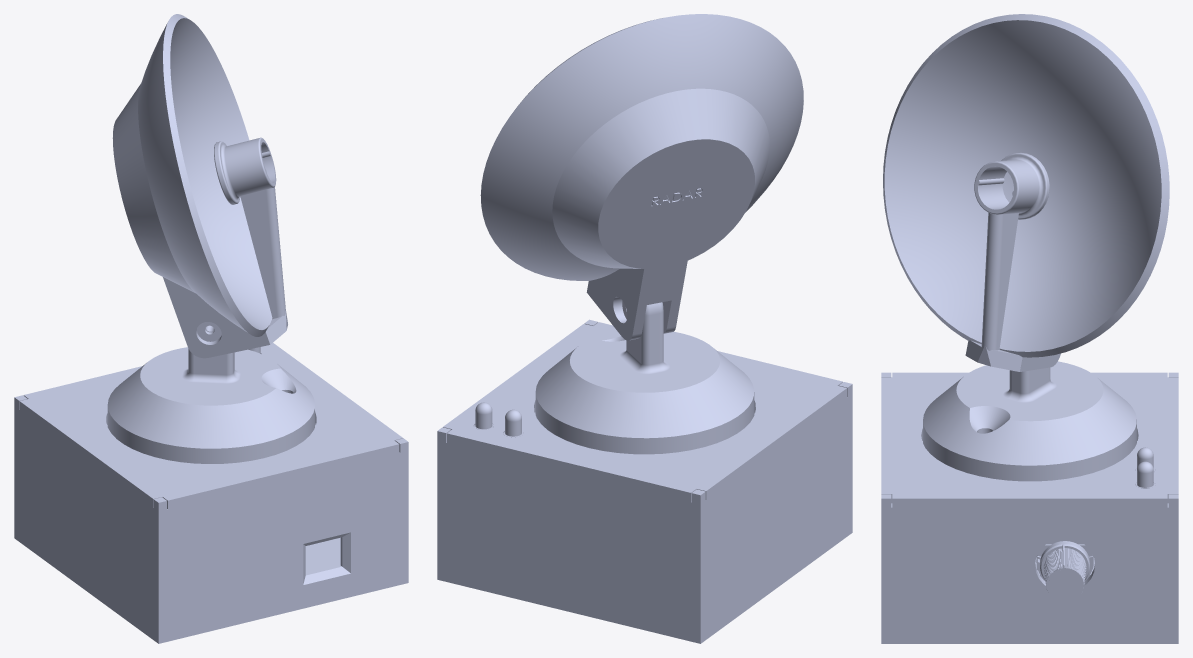
Rendered from Assemblage_Radar.glb.
The picture shows the model from 3 angles, left to right: view 1: azimuth 30°, elevation 25°; view 2: azimuth 150°, elevation 25°; view 3: azimuth 270°, elevation 25°; orthographic projection. The views are drawn at different scales.
Parts seen in each view (by area): view 1: Socle4-1, Parabole_Drone_Detection-1, Socle1-1, Socle2-1; view 2: Parabole_Drone_Detection-1, Socle4-1, Socle2-1, Socle1-1; view 3: Parabole_Drone_Detection-1, Socle4-1, Socle2-1, Socle1-1, bouton potentiom├¿tre-1, LED-2, POTENTIOMETER-1.
Boxes of the visible parts, x1,y1,x2,y2 form: Socle4-1: [14, 395, 408, 643]; Parabole_Drone_Detection-1: [112, 14, 287, 358]; Socle1-1: [19, 343, 403, 509]; Socle2-1: [107, 325, 314, 463]; Parabole_Drone_Detection-1: [480, 14, 803, 340]; Socle4-1: [437, 319, 852, 643]; Socle2-1: [535, 302, 754, 454]; Socle1-1: [443, 322, 846, 501]; Parabole_Drone_Detection-1: [883, 14, 1169, 371]; Socle4-1: [881, 372, 1178, 643]; Socle2-1: [923, 361, 1136, 481]; Socle1-1: [881, 372, 1178, 507]; bouton potentiom├¿tre-1: [1040, 541, 1089, 602]; LED-2: [1135, 461, 1155, 488]; POTENTIOMETER-1: [1036, 538, 1093, 580].
Size of the model in its own units: 0.1032 by 0.1799 by 0.089.
